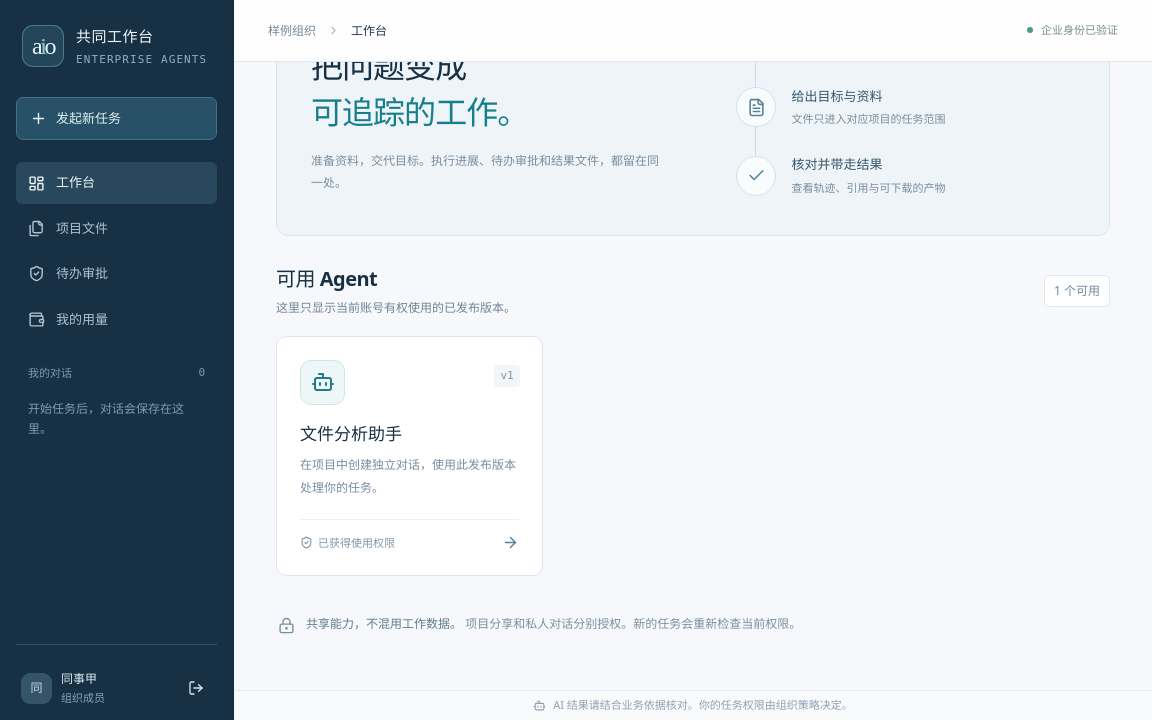
Test: Workbench identity and tasks › creates a Session with explicit project and Agent version
The width and height of the screenshot is (1152, 720).
(page scrolled)
Click the button "v1 文件分析助手 在项目中创建独立对话，使用此发布版本处理你的任务。 已获得使用权限".
click(409, 456)  # box [276, 336, 543, 576]
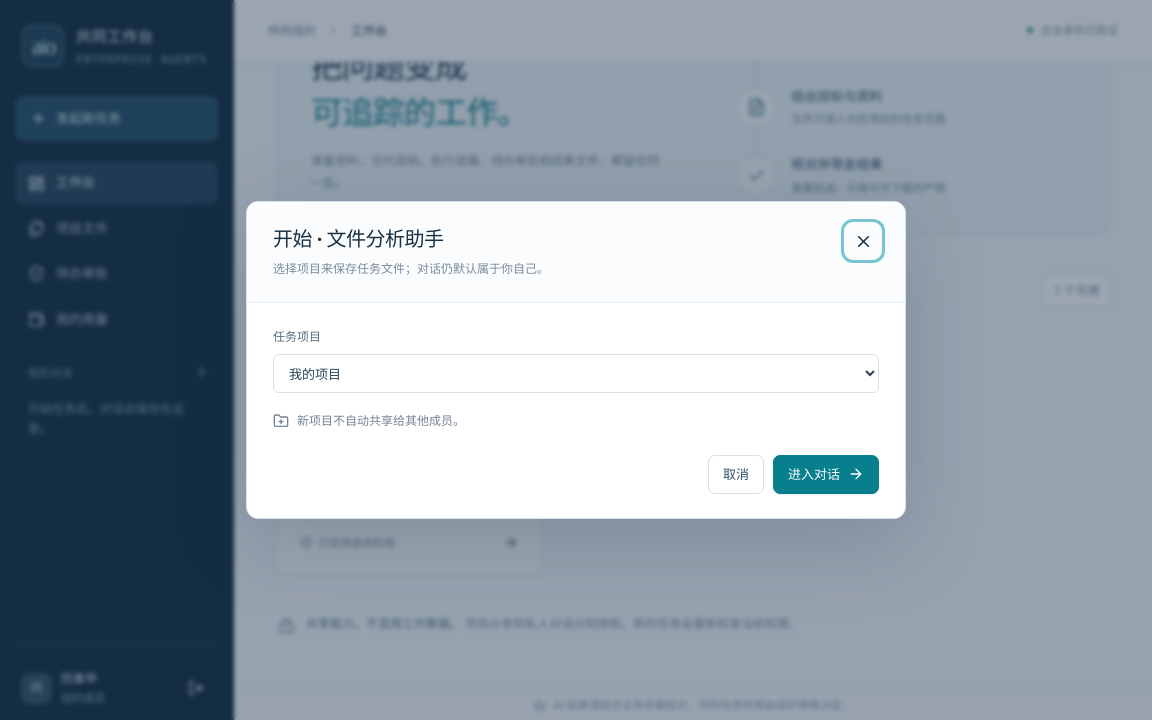
Click the button "进入对话".
click(826, 474)  # box [773, 455, 879, 494]
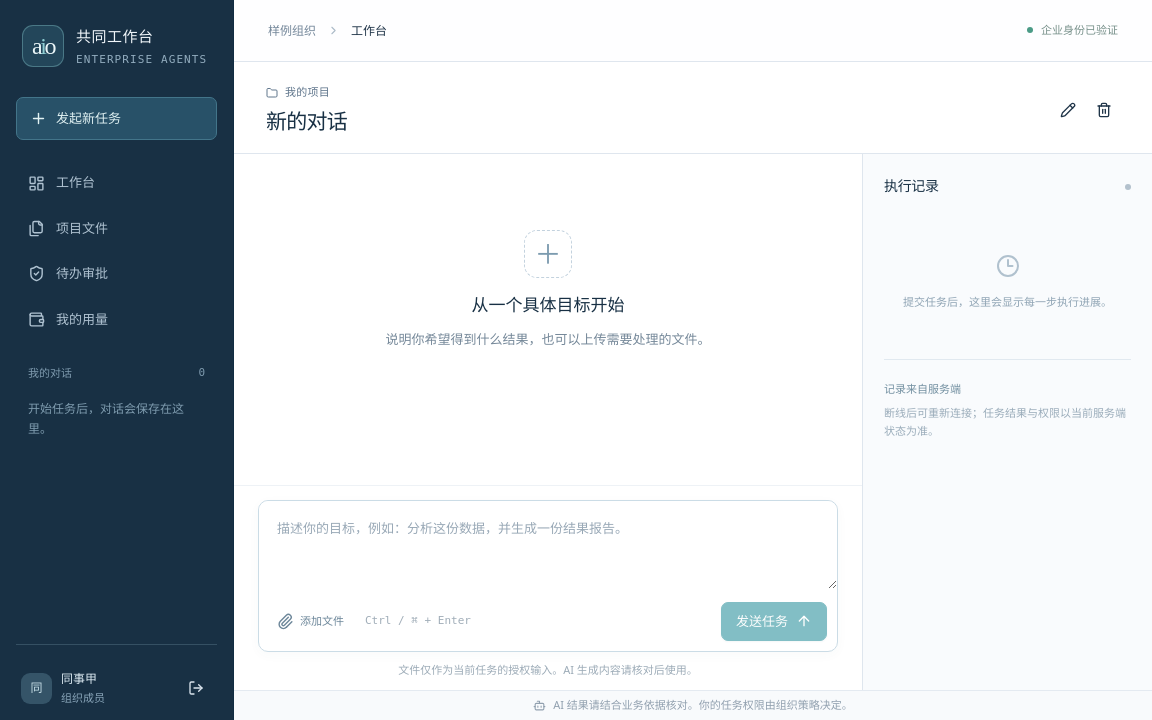
expect the heading "新的对话" is shown: met, box [266, 107, 347, 135]
